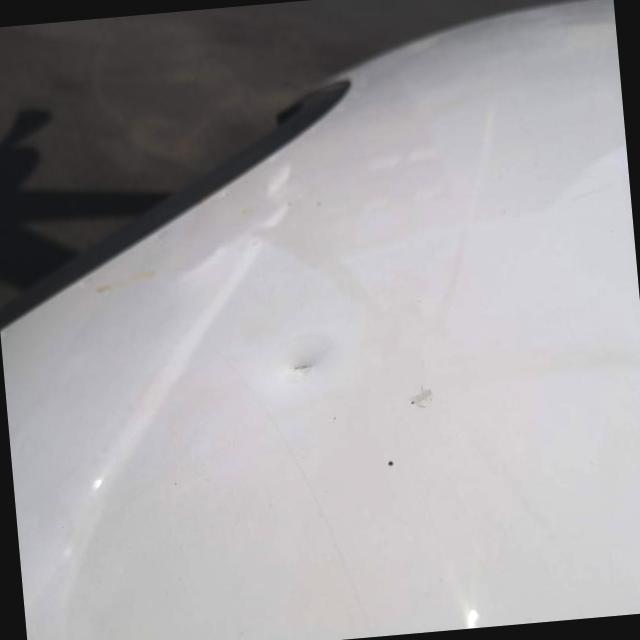dent: (245, 320, 352, 408)
